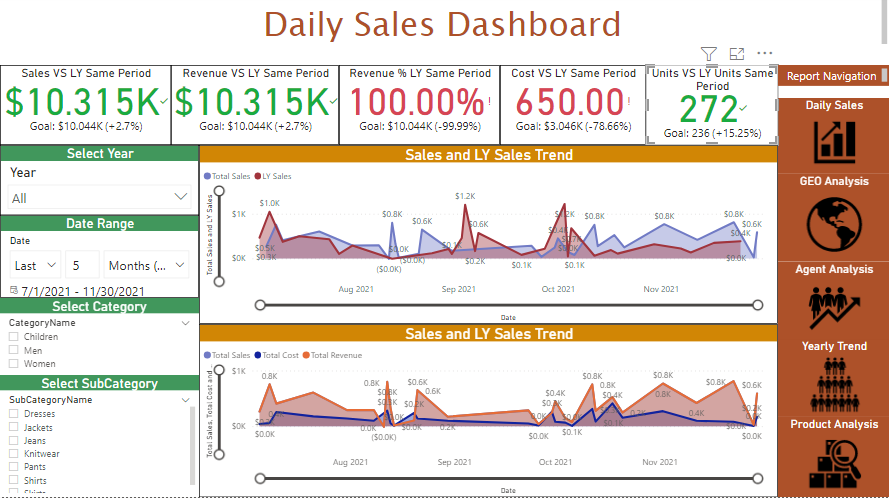

The page's visual inventory and layout, read from the dashboard file:
{"tool":"powerbi","page":{"name":"Daily Sales","canvas":[1280,720],"ordinal":0},"visuals":[{"type":"slicer","title":"Select Year","fields":{"Values":["DimDate.Year"]},"box":[0,214.1,1118.1,120.7],"z":0},{"type":"slicer","title":"Date Range","fields":{"Values":["DimDate.Date"]},"box":[0,334.9,268.7,145.1],"z":1000},{"type":"textbox","box":[0,0,1280.5,67.5],"z":2000},{"type":"actionButton","title":"Daily Sales","box":[1118.1,146.6,162.4,109.2],"z":3000},{"type":"kpi","title":"Sales VS LY Same Period","fields":{"Goal":["FactSales.LY Sales"],"Indicator":["FactSales.Total Sales"],"TrendLine":["DimDate.Year Hierarchy.Year"]},"box":[0,99.2,245.7,115],"z":4000},{"type":"kpi","title":"Revenue VS LY Same Period","fields":{"Goal":["FactSales.LY Revenue"],"Indicator":["Sum(FactSales.Revenue)"],"TrendLine":["DimDate.Year Hierarchy.Year"]},"box":[245.7,99.2,241.4,115],"z":5000},{"type":"kpi","title":"Revenue % LY Same Period","fields":{"Indicator":["FactSales.Revenue %"],"Goal":["FactSales.LY Revenue"],"TrendLine":["DimDate.Year Hierarchy.Year"]},"box":[487.2,99.2,231.4,115],"z":6000},{"type":"kpi","title":"Cost VS LY Same Period","fields":{"Goal":["FactSales.LY Cost"],"Indicator":["Sum(FactSales.Cost)"],"TrendLine":["DimDate.Year Hierarchy.Year"]},"box":[718.6,99.2,209.8,115],"z":7000},{"type":"kpi","title":"Units VS LY Units Same Period","fields":{"Goal":["FactSales.LY Total Units"],"Indicator":["FactSales.Total Units"],"TrendLine":["DimDate.Year Hierarchy.Year"]},"box":[928.4,99.2,189.7,115],"z":8000},{"type":"areaChart","title":"Sales, LY Sales Trend","fields":{"Y":["FactSales.Total Sales","FactSales.LY Sales"],"Category":["DimDate.Date"]},"box":[268.7,334.9,849.3,191.1],"z":9000},{"type":"slicer","title":"Select Category","fields":{"Values":["DimCategories.CategoryName"]},"box":[0,480,268.7,125],"z":10000},{"type":"slicer","title":"Select SubCategory","fields":{"Values":["DimSubCategories.SubCategoryName"]},"box":[0,605,268.7,115],"z":11000},{"type":"textbox","box":[1118.7,79,161.3,50.4],"z":12000},{"type":"actionButton","title":"Agent Analysis","box":[1118.1,382.3,162.4,110.7],"z":13000},{"type":"actionButton","title":"GEO Analysis","box":[1118.7,255.3,161.3,127.7],"z":14000},{"type":"actionButton","title":"Product Analysis","box":[1118.1,605,162.4,115],"z":15000},{"type":"actionButton","title":"Yearly Trend","box":[1118.1,492.9,162.4,112.1],"z":16000},{"type":"areaChart","title":"Sales, Cost, Revenue by Date","fields":{"Y":["FactSales.Total Sales","FactSales.Total Cost","FactSales.Total Revenue"],"Category":["DimDate.Date"]},"box":[268.7,526,849.3,194],"z":17000}]}

Visuals, with their boxes on the page's 1280x720 design canvas (x1, y1, x2, y2). These are canvas units, not pixel positions in the 889x498 screenshot, which may show the page scaled, cropped or inside an application window:
"Select Year" slicer: [0, 214, 1118, 335]
"Date Range" slicer: [0, 335, 269, 480]
textbox: [0, 0, 1280, 68]
"Daily Sales" actionButton: [1118, 147, 1280, 256]
"Sales VS LY Same Period" kpi: [0, 99, 246, 214]
"Revenue VS LY Same Period" kpi: [246, 99, 487, 214]
"Revenue % LY Same Period" kpi: [487, 99, 719, 214]
"Cost VS LY Same Period" kpi: [719, 99, 928, 214]
"Units VS LY Units Same Period" kpi: [928, 99, 1118, 214]
"Sales, LY Sales Trend" areaChart: [269, 335, 1118, 526]
"Select Category" slicer: [0, 480, 269, 605]
"Select SubCategory" slicer: [0, 605, 269, 720]
textbox: [1119, 79, 1280, 129]
"Agent Analysis" actionButton: [1118, 382, 1280, 493]
"GEO Analysis" actionButton: [1119, 255, 1280, 383]
"Product Analysis" actionButton: [1118, 605, 1280, 720]
"Yearly Trend" actionButton: [1118, 493, 1280, 605]
"Sales, Cost, Revenue by Date" areaChart: [269, 526, 1118, 720]
